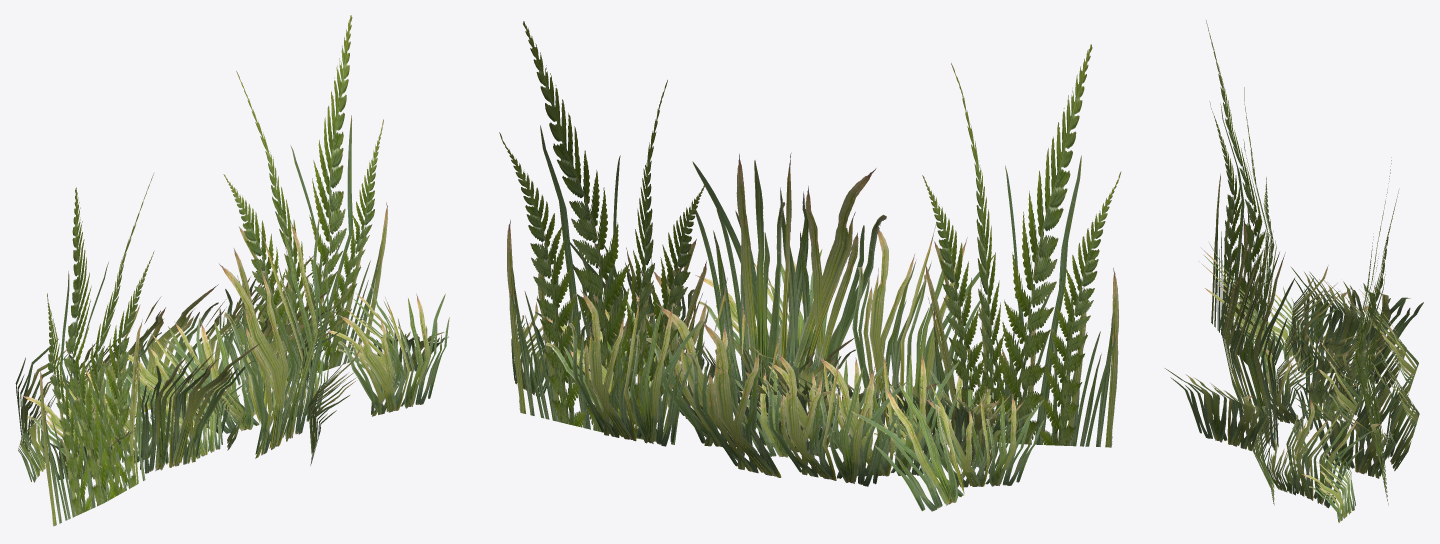
Rendered from Grass_4.fbx.
3 renders of one model, left to right at view 1: azimuth 30°, elevation 25°; view 2: azimuth 150°, elevation 25°; view 3: azimuth 270°, elevation 25°, orthographic. The views are drawn at different scales.
Visible parts, largest first — view 1: Grass_4_Leaf1, Grass_4_Leaf2; view 2: Grass_4_Leaf1, Grass_4_Leaf2; view 3: Grass_4_Leaf1, Grass_4_Leaf2.
Part boxes in pixels (x1,y1,x2,y2): Grass_4_Leaf1: (15,217,449,482); Grass_4_Leaf2: (40,15,387,526); Grass_4_Leaf1: (511,153,1043,511); Grass_4_Leaf2: (499,21,1121,447); Grass_4_Leaf1: (1164,215,1423,522); Grass_4_Leaf2: (1206,20,1399,504).
Bounding box in the file's own units: 159 × 117 × 85.64.
